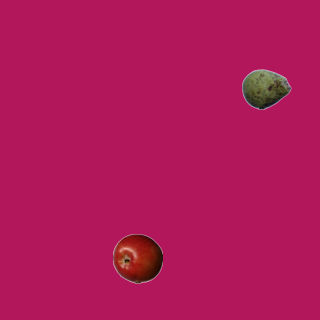Apple Braeburn: (112, 233, 162, 283)
Pear Stone: (241, 64, 291, 114)
